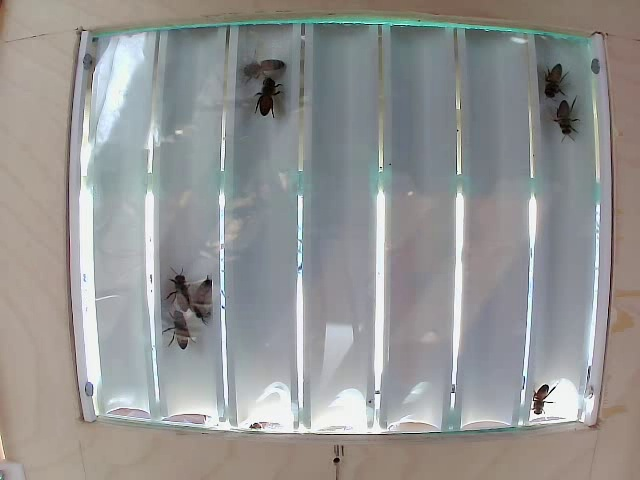bee: (548, 93, 591, 140), (533, 53, 570, 93), (163, 268, 201, 301), (193, 278, 219, 326), (162, 311, 192, 350), (263, 81, 290, 123), (240, 50, 289, 71)
